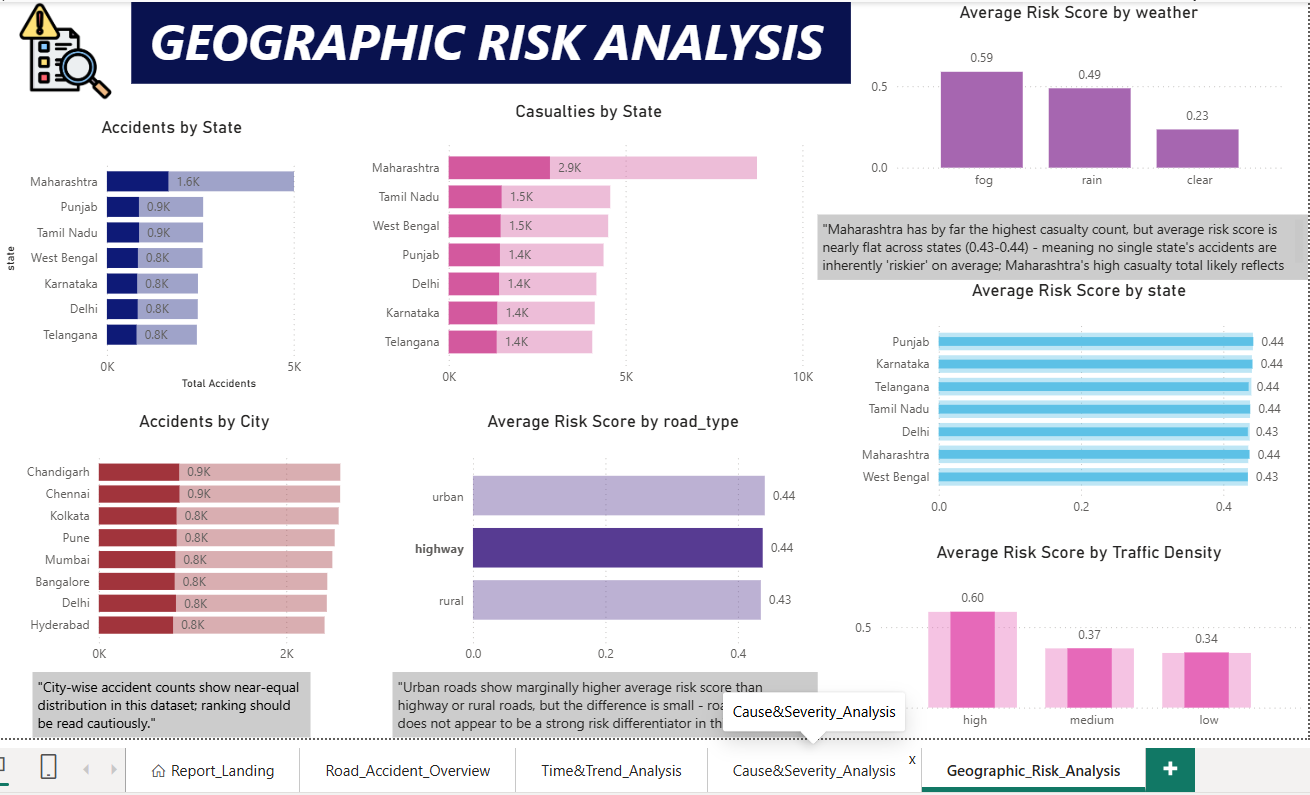

The page's visual inventory and layout, read from the dashboard file:
{"tool":"powerbi","page":{"name":"Geographic_Risk_Analysis","canvas":[1280,720],"ordinal":4},"visuals":[{"type":"textbox","box":[128,0,704,80],"z":0},{"type":"clusteredBarChart","title":"Accidents by State","fields":{"Category":["Road Accidents.state","Road Accidents.Country"],"Y":["Measure.Total Accidents"]},"box":[0,112,336,272],"z":1000},{"type":"clusteredBarChart","title":"Accidents by City","fields":{"Category":["Road Accidents.city"],"Y":["Measure.Total Accidents"]},"box":[16,400,368,256],"z":2000},{"type":"textbox","box":[32,656,272,64],"z":3000},{"type":"clusteredBarChart","title":"Casualties by State","fields":{"Category":["Road Accidents.state"],"Y":["Measure.Total Casualties"]},"box":[352,96,448,288],"z":4000},{"type":"clusteredBarChart","fields":{"Category":["Road Accidents.state"],"Y":["Measure.Average Risk Score"]},"box":[832,272,448,240],"z":5000},{"type":"textbox","box":[800,208,480,64],"z":6000},{"type":"clusteredBarChart","fields":{"Category":["Road Accidents.road_type"],"Y":["Measure.Average Risk Score"]},"box":[400,400,400,256],"z":7000},{"type":"textbox","box":[384,656,416,64],"z":8000},{"type":"image","box":[0,0,128,96],"z":9000},{"type":"clusteredColumnChart","title":"Average Risk Score by Traffic Density","fields":{"Category":["Road Accidents.traffic_density"],"Y":["Measure.Average Risk Score"]},"box":[832,528,448,192],"z":10000},{"type":"clusteredColumnChart","fields":{"Category":["Road Accidents.weather"],"Y":["Measure.Average Risk Score"]},"box":[848,0,416,192],"z":11000}]}

Visuals, with their boxes on the page's 1280x720 design canvas (x1, y1, x2, y2). These are canvas units, not pixel positions in the 1310x795 screenshot, which may show the page scaled, cropped or inside an application window:
textbox: detection(128, 0, 832, 80)
"Accidents by State" clusteredBarChart: detection(0, 112, 336, 384)
"Accidents by City" clusteredBarChart: detection(16, 400, 384, 656)
textbox: detection(32, 656, 304, 720)
"Casualties by State" clusteredBarChart: detection(352, 96, 800, 384)
clusteredBarChart - Road Accidents.state x Measure.Average Risk Score: detection(832, 272, 1280, 512)
textbox: detection(800, 208, 1280, 272)
clusteredBarChart - Road Accidents.road_type x Measure.Average Risk Score: detection(400, 400, 800, 656)
textbox: detection(384, 656, 800, 720)
image: detection(0, 0, 128, 96)
"Average Risk Score by Traffic Density" clusteredColumnChart: detection(832, 528, 1280, 720)
clusteredColumnChart - Road Accidents.weather x Measure.Average Risk Score: detection(848, 0, 1264, 192)
